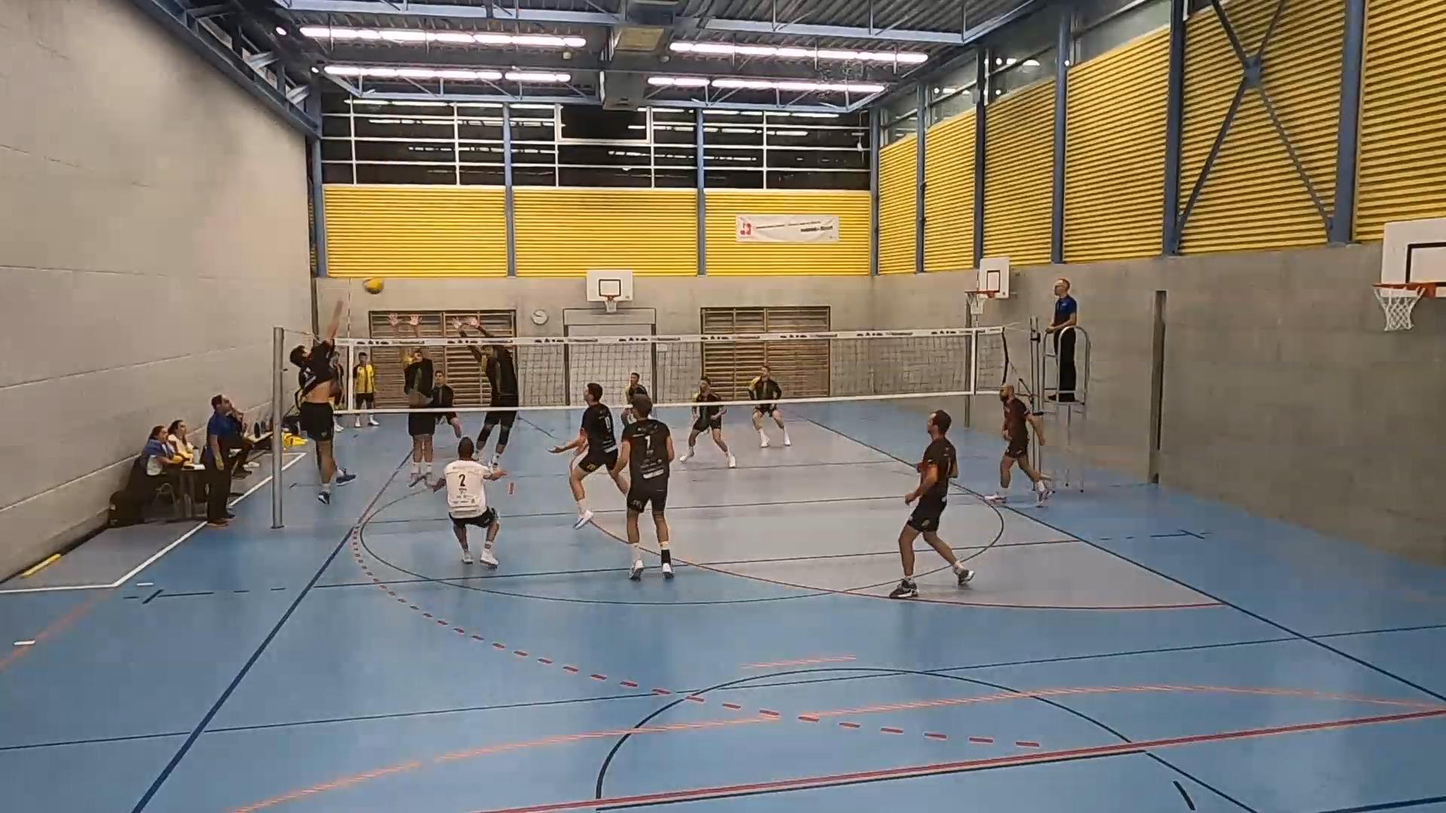Attack: (283, 328, 368, 497)
Block: (451, 304, 528, 490), (385, 314, 446, 500)
Player: (890, 410, 974, 598), (612, 395, 673, 580), (551, 383, 625, 528), (432, 437, 505, 567), (985, 385, 1052, 503), (679, 376, 735, 467), (748, 364, 790, 447), (622, 371, 648, 425), (430, 370, 454, 408)
ball: (364, 278, 388, 293)
